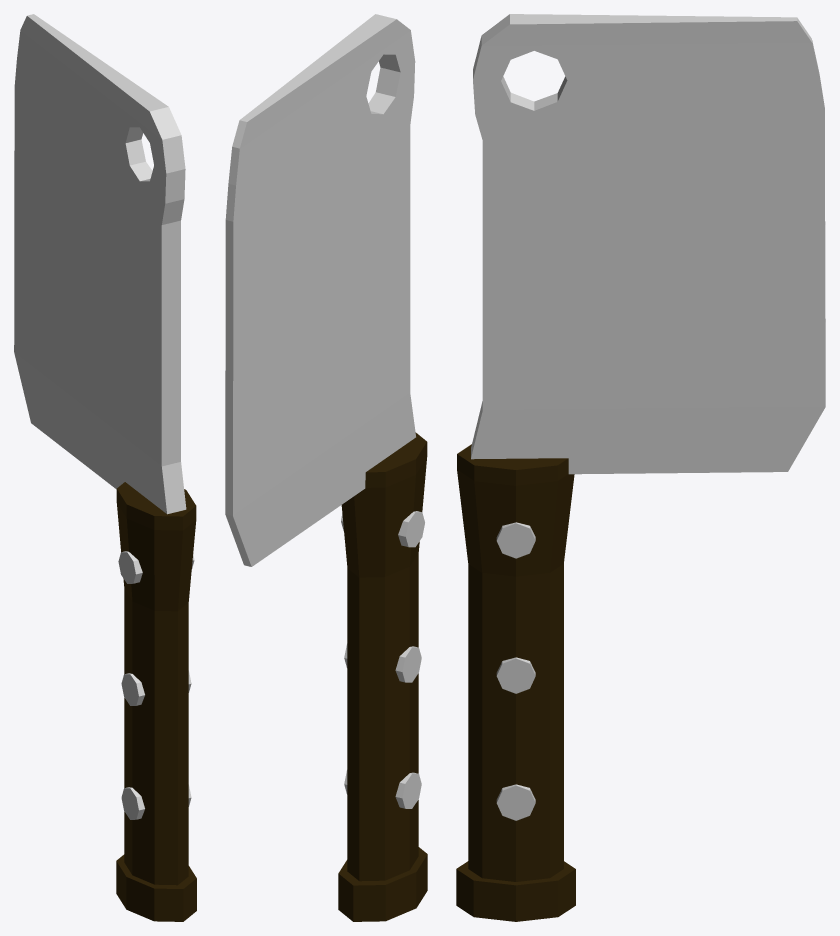
Rendered from butcher.glb.
The picture shows the model from 3 angles, left to right: view 1: azimuth 30°, elevation 25°; view 2: azimuth 150°, elevation 25°; view 3: azimuth 270°, elevation 25°; orthographic projection. The views are drawn at different scales.
Parts seen in each view (by area): view 1: Cube, Cylinder, Cylinder.004, Cylinder.003, Cylinder.002; view 2: Cube, Cylinder, Cylinder.003, Cylinder.004, Cylinder.002; view 3: Cube, Cylinder, Cylinder.004, Cylinder.003, Cylinder.002.
Boxes of the visible parts, <box> form: Cube: <box>14,14,186,514</box>; Cylinder: <box>116,482,196,921</box>; Cylinder.004: <box>121,784,191,819</box>; Cylinder.003: <box>121,670,191,705</box>; Cylinder.002: <box>118,551,194,583</box>; Cube: <box>225,14,415,566</box>; Cylinder: <box>338,432,427,921</box>; Cylinder.003: <box>344,643,421,682</box>; Cylinder.004: <box>344,770,421,808</box>; Cylinder.002: <box>341,511,424,547</box>; Cube: <box>471,14,825,474</box>; Cylinder: <box>456,444,575,921</box>; Cylinder.004: <box>496,784,535,820</box>; Cylinder.003: <box>496,657,535,693</box>; Cylinder.002: <box>496,522,535,558</box>.
Bounding box in the file's own units: 0.7959 × 10.03 × 3.79.
